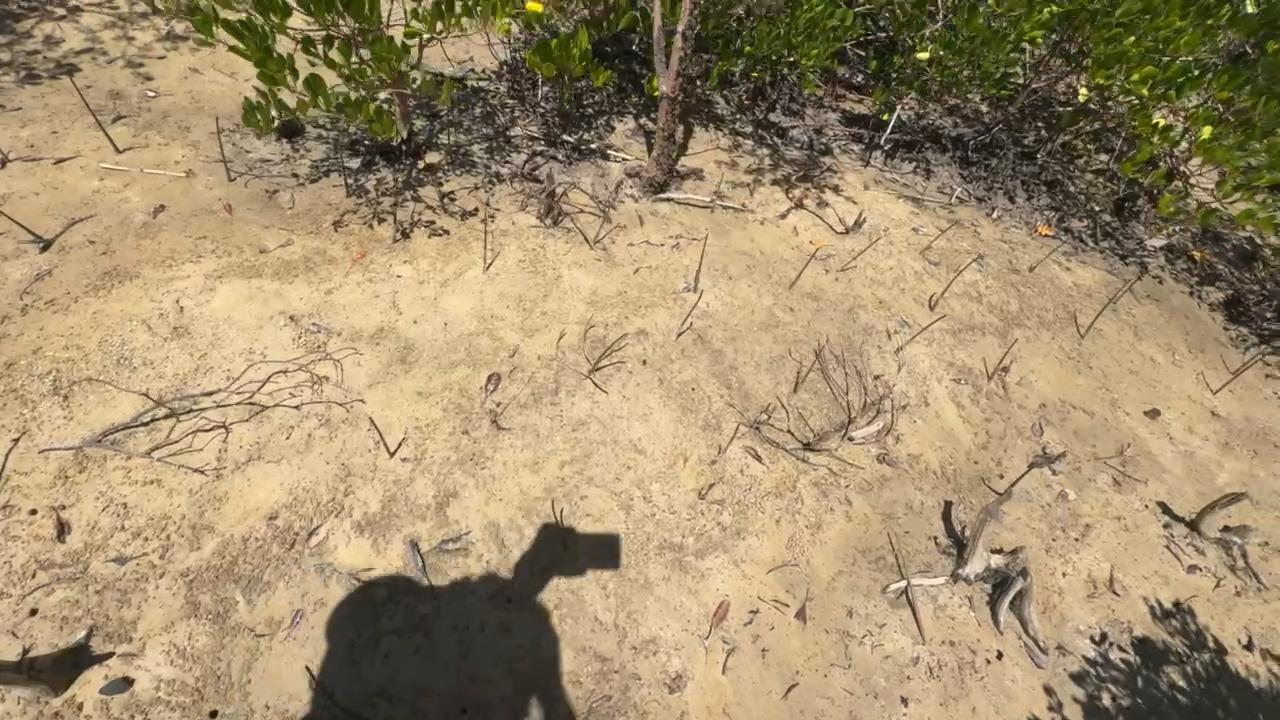Tree: (68, 73, 123, 155), (892, 528, 928, 644), (1075, 278, 1131, 340), (928, 254, 978, 312), (788, 244, 836, 292), (1214, 357, 1264, 401), (894, 314, 948, 353), (587, 331, 632, 375), (1028, 237, 1073, 273), (0, 209, 46, 244), (839, 237, 886, 271), (986, 337, 1020, 382), (919, 220, 960, 256), (365, 412, 395, 461), (799, 336, 828, 385), (1001, 462, 1038, 495), (679, 287, 706, 328), (715, 421, 742, 461), (692, 232, 709, 294), (215, 116, 231, 180), (1115, 275, 1144, 304), (338, 143, 353, 198), (593, 222, 624, 245), (710, 171, 726, 214), (480, 208, 489, 273), (676, 320, 693, 341), (788, 366, 800, 394)
